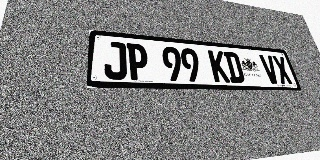9: (161, 46, 184, 81), (180, 48, 202, 82)
D: (223, 51, 246, 83)
J: (104, 41, 127, 80)
K: (208, 50, 230, 83)
P: (127, 43, 149, 80)
V: (259, 54, 281, 84)
X: (272, 56, 293, 84)
